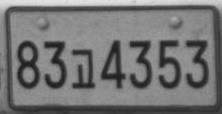3: (128, 39, 153, 89), (185, 39, 210, 88), (43, 40, 67, 90)
4: (100, 38, 126, 88)
5: (157, 39, 181, 89)
8: (15, 39, 41, 89)
고: (70, 48, 95, 89)
